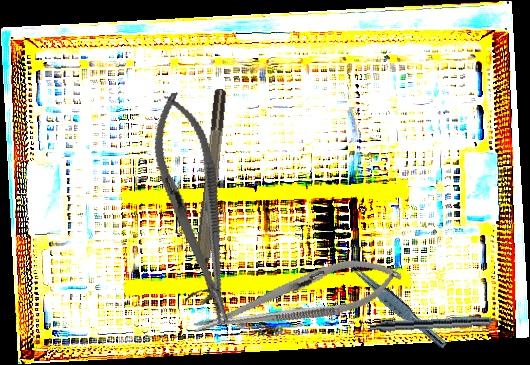Fixation Ring: (184, 88, 240, 306)
Handpiece: (369, 314, 516, 335)
Needle Holder: (140, 87, 251, 330), (185, 245, 409, 353)
Tissue Forceps: (343, 260, 452, 350)
